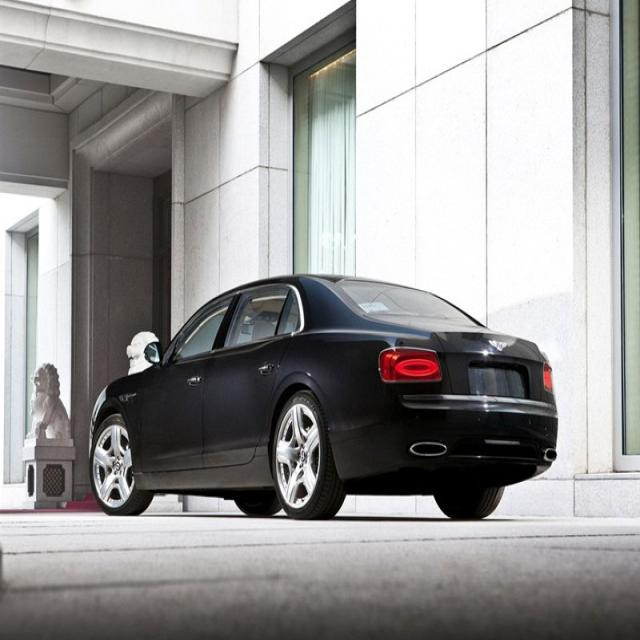back_glass: (329, 277, 489, 333)
back_left_side_light: (376, 344, 446, 385)
back_right_side_light: (540, 354, 554, 393)
door: (200, 284, 302, 466)
front_left_side_door: (133, 286, 241, 479)
front_left_side_mirror: (142, 335, 166, 370)
rear_bumper: (326, 392, 561, 492)
wheel: (270, 391, 344, 519), (87, 412, 155, 516)
